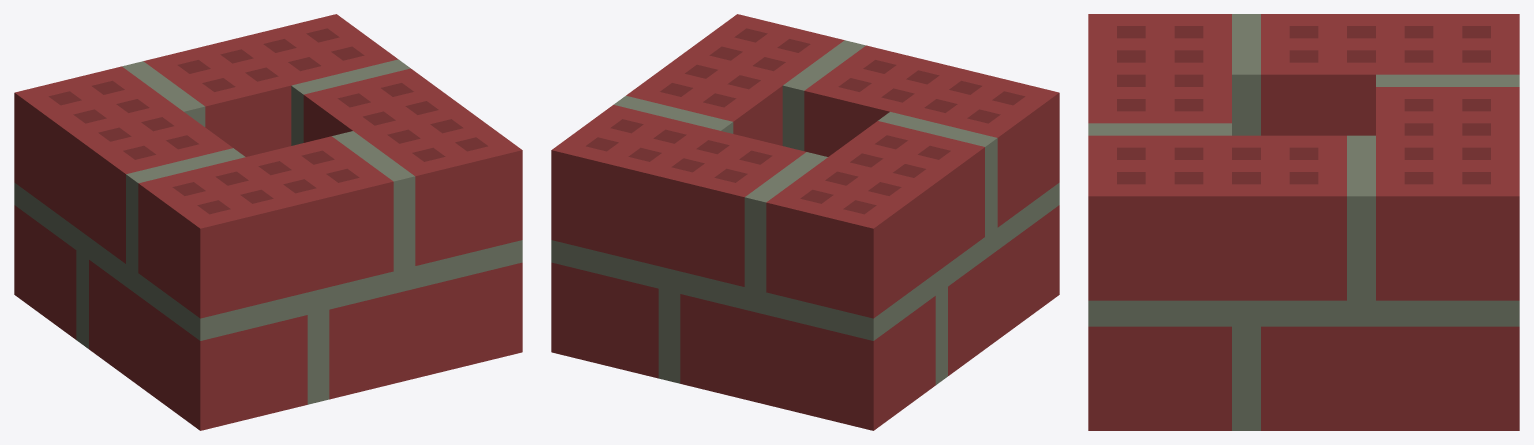
File: brick_cube.obj
The picture shows the model from 3 angles, left to right: view 1: azimuth 30°, elevation 25°; view 2: azimuth 150°, elevation 25°; view 3: azimuth 270°, elevation 25°; orthographic projection. The views are drawn at different scales.
Size of the model in its own units: 1.5 by 0.9 by 1.5.
